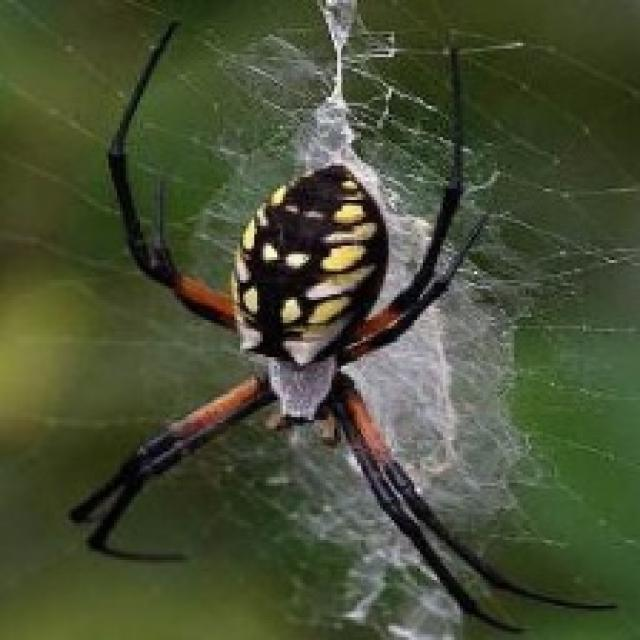Non venomous spider: (121, 138, 479, 522)
